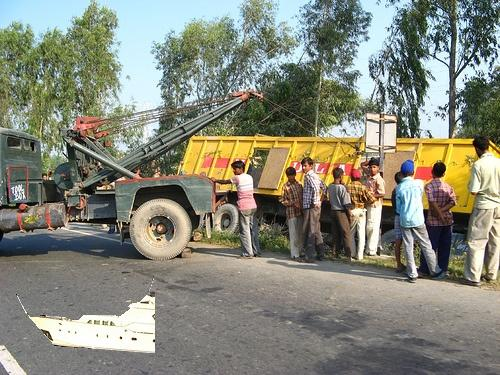tampered: (17, 276, 155, 353)
